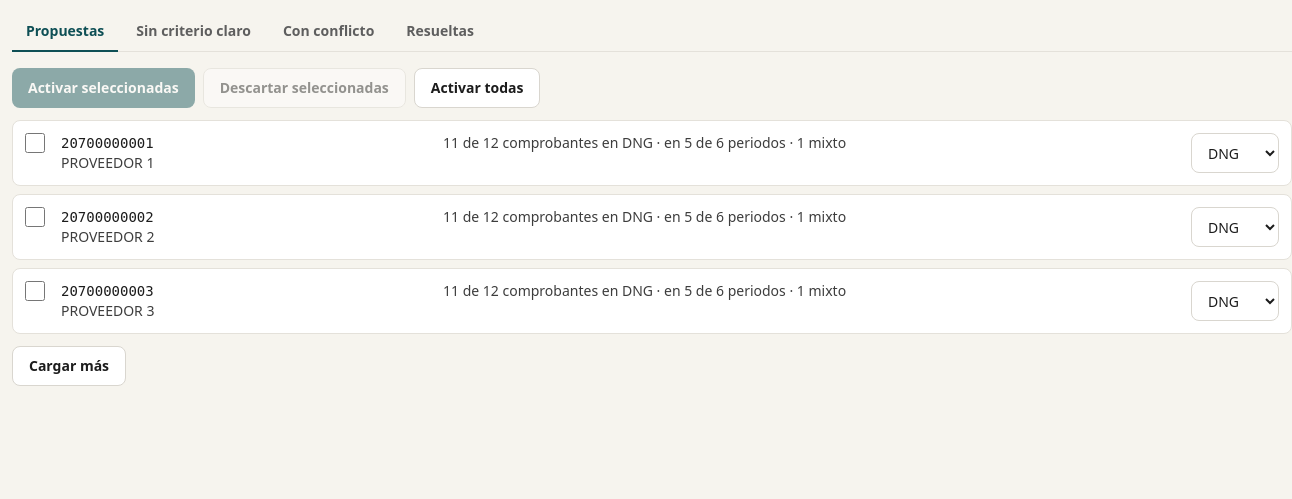
it: <CandidatasImportadas /> · Propuestas (CA-3) › con más de una página: «Cargar más» pide el cursor que dio el servidor y agrega sin repetir
The image size is (1292, 499).
Click the button "Cargar más": [69, 366] box [12, 346, 126, 386]
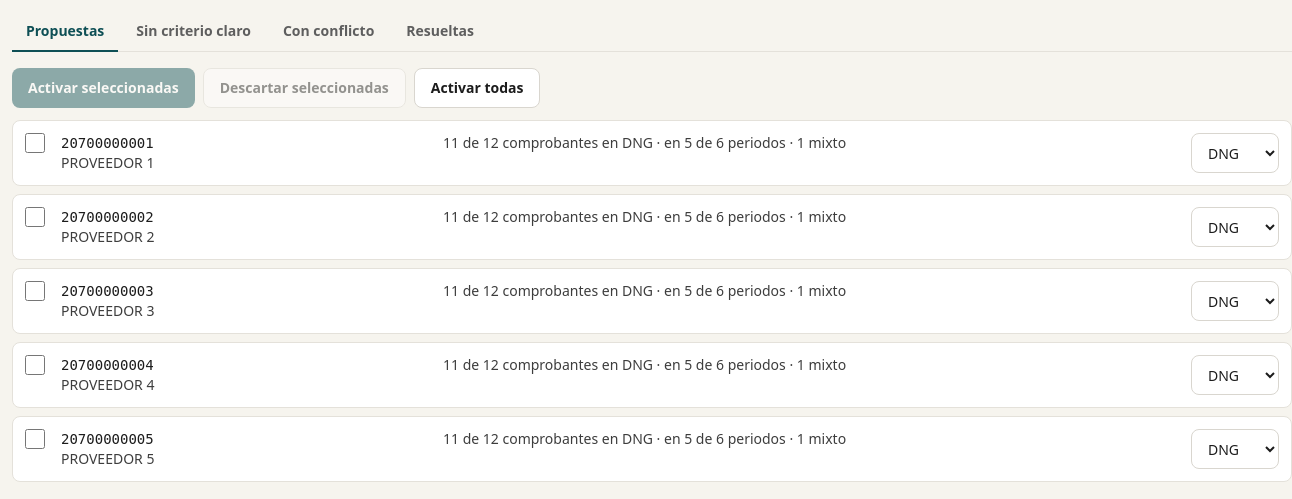
Expected: the number of list items is 5, [12, 120, 1291, 186]; [12, 194, 1291, 260]; [12, 268, 1291, 334]; [12, 342, 1291, 408]; [12, 416, 1291, 482]
Expected: the button "Cargar más" is gone
